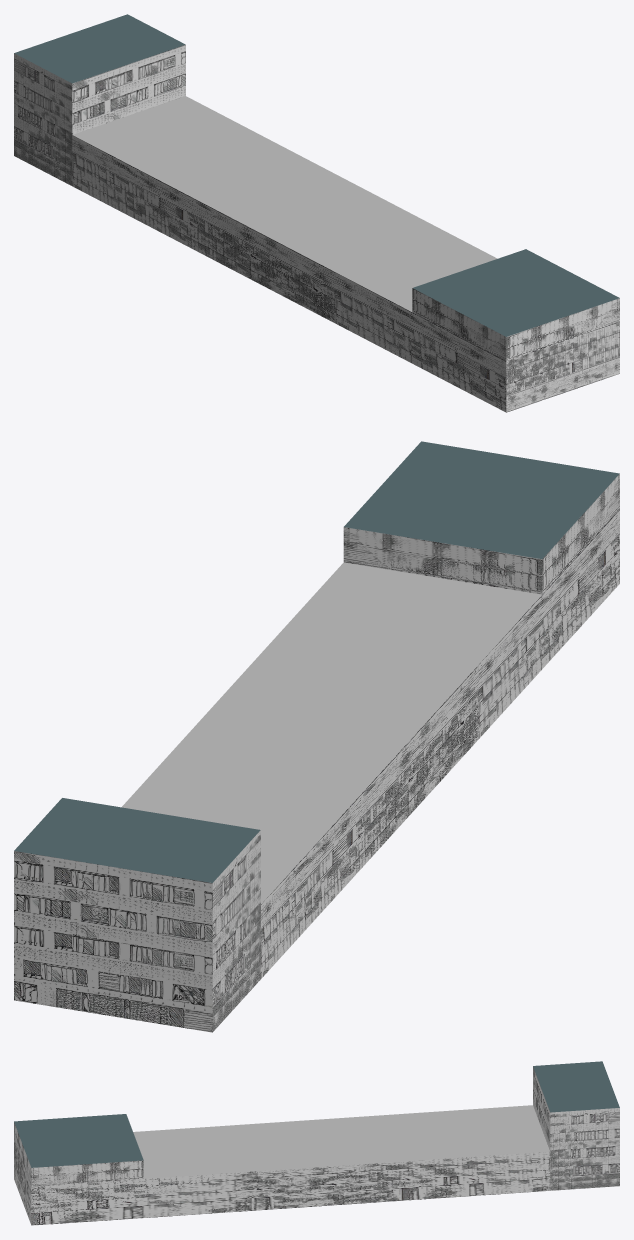
Rendered from 1Georg-Schumann-Str7a.gltf.
3 views of the same model, one above another, from view 1: azimuth 30°, elevation 25°; view 2: azimuth 150°, elevation 25°; view 3: azimuth 270°, elevation 25° (orthographic). The views are drawn at different scales.
Parts seen in each view (by area): view 1: Dach.1; view 2: Dach.1; view 3: Dach.1.
Boxes of the visible parts, x1,y1,x2,y2 form: Dach.1: (14,14,619,412); Dach.1: (14,441,619,1032); Dach.1: (14,1061,619,1225).
Bounding box in the file's own units: 44.73 × 19 × 133.
Materials: 8 (6 with a texture image).
